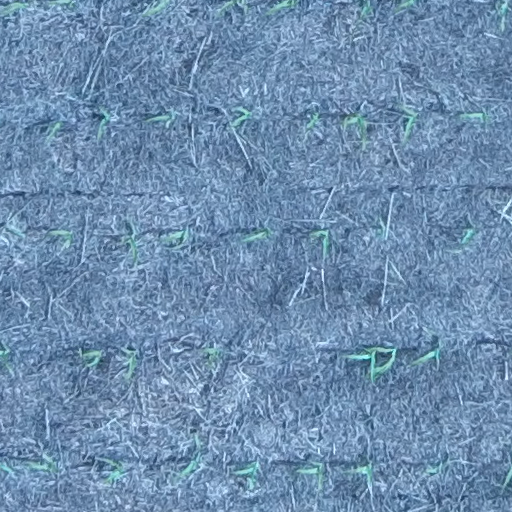planta: (170, 429, 206, 484), (336, 108, 371, 152), (360, 344, 399, 381), (293, 456, 329, 494), (407, 337, 447, 370), (117, 219, 144, 266), (341, 349, 378, 383), (395, 100, 421, 145), (18, 451, 61, 477), (157, 225, 196, 253), (235, 222, 277, 247), (231, 458, 263, 490), (342, 459, 377, 488), (225, 102, 257, 132), (454, 106, 495, 129), (197, 342, 227, 372), (100, 456, 129, 487), (93, 103, 114, 143), (453, 221, 479, 252), (45, 224, 77, 249), (306, 227, 332, 257), (121, 345, 140, 386), (144, 106, 180, 126), (75, 347, 105, 371), (42, 115, 65, 144), (421, 456, 452, 476), (372, 213, 390, 242), (303, 108, 322, 133), (5, 221, 26, 240)
